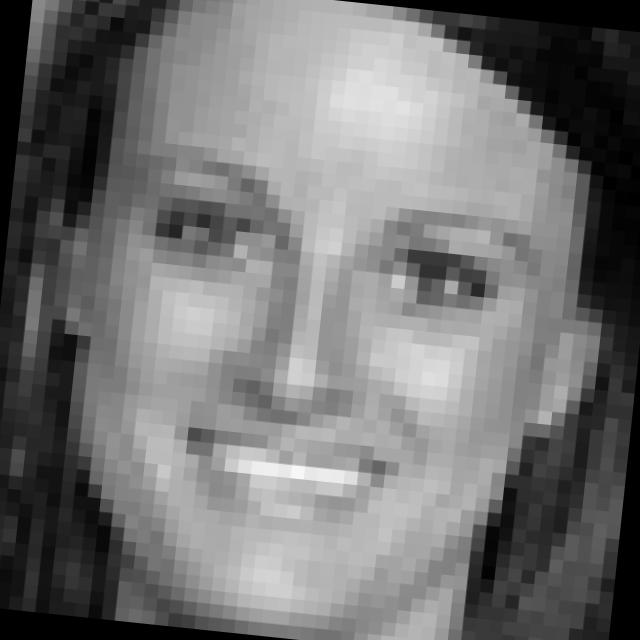happy: (83, 138, 547, 561)
